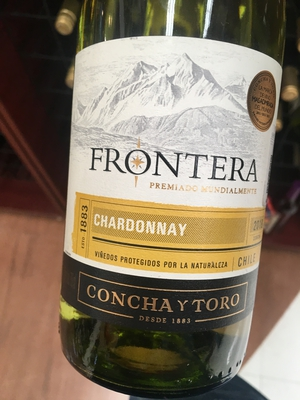frontera chardonnay: (65, 1, 289, 400)
